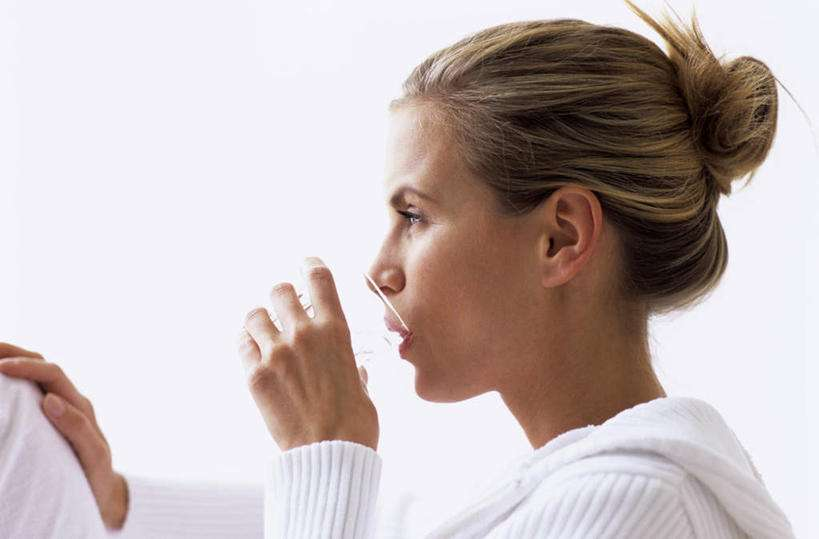no-phone: (233, 249, 413, 448)
